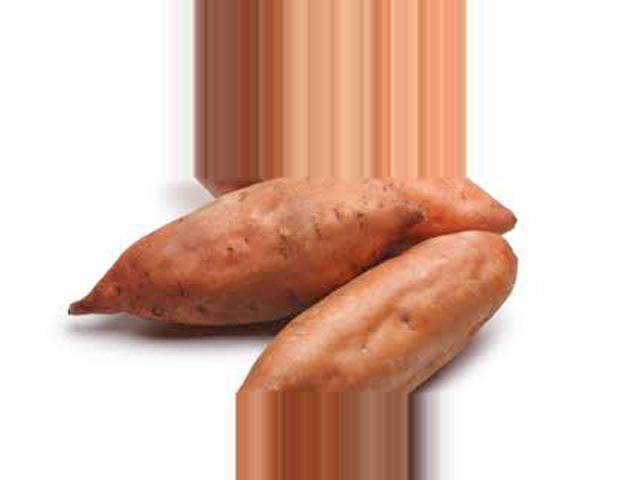sweet_potato: (218, 233, 517, 395)
